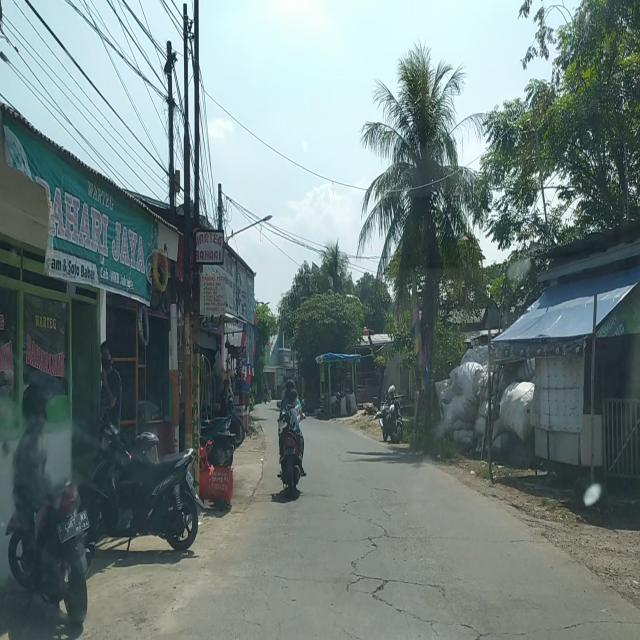Drain Hole: (329, 495, 476, 640)
